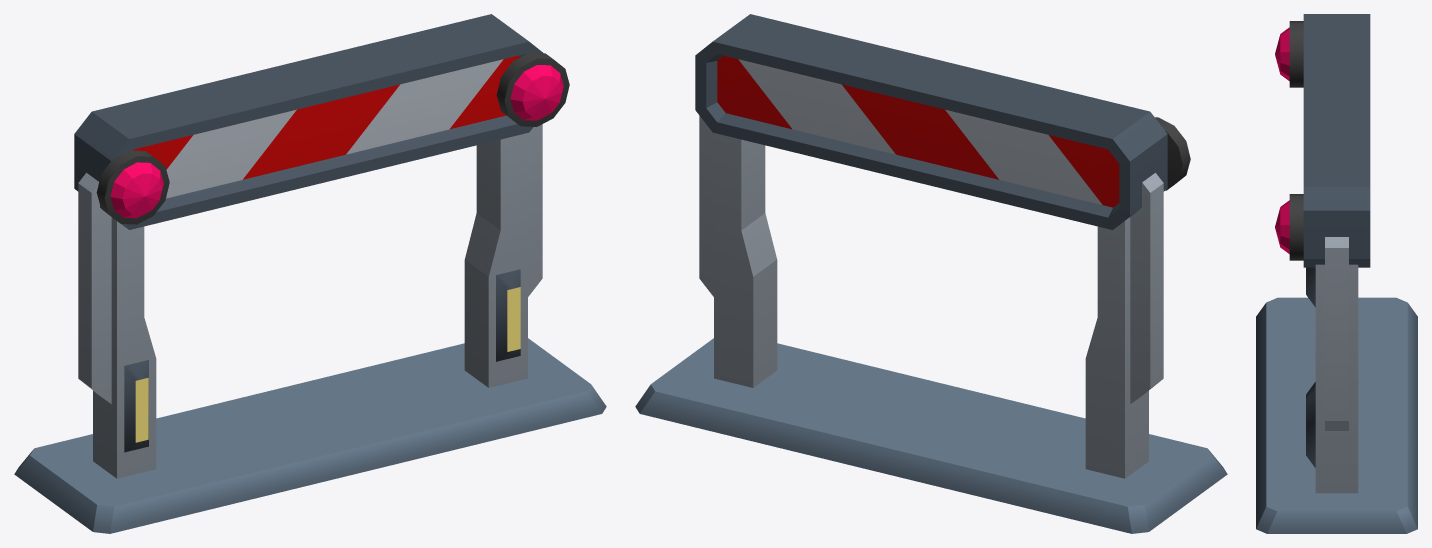
The model's file is Pared_Barra.FBX.
3 renders of one model, left to right at view 1: azimuth 30°, elevation 25°; view 2: azimuth 150°, elevation 25°; view 3: azimuth 270°, elevation 25°, orthographic. The views are drawn at different scales.
Visible parts, largest first — view 1: Pared_Barra_01; view 2: Pared_Barra_01; view 3: Pared_Barra_01.
Boxes of the visible parts, left/top/right/bottom form: Pared_Barra_01: left=14, top=14, right=606, bottom=533; Pared_Barra_01: left=635, top=14, right=1227, bottom=533; Pared_Barra_01: left=1256, top=14, right=1417, bottom=533.
Size of what is drawn, in the model's own units: 260 by 80 by 176.
